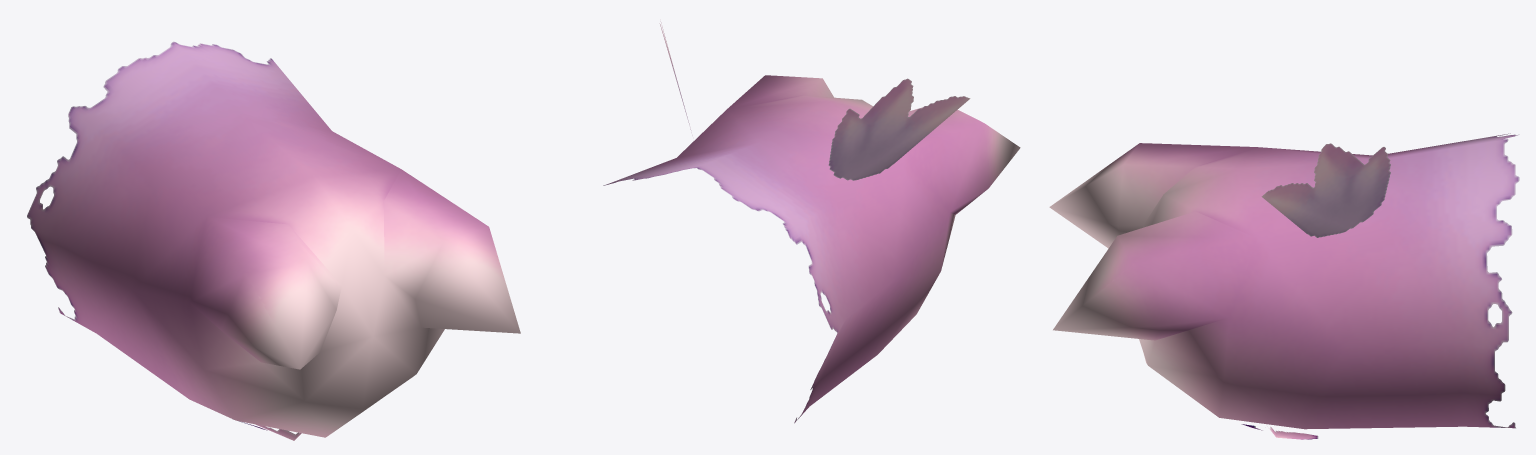
The model's file is spookat.glb.
The picture shows the model from 3 angles, left to right: view 1: azimuth 30°, elevation 25°; view 2: azimuth 150°, elevation 25°; view 3: azimuth 270°, elevation 25°; orthographic projection. The views are drawn at different scales.
Parts seen in each view (by area): view 1: monsters.spookat-Mesh[0]; view 2: monsters.spookat-Mesh[0]; view 3: monsters.spookat-Mesh[0].
Part boxes in pixels (bbox=[...]): monsters.spookat-Mesh[0]: bbox=[27, 41, 520, 440]; monsters.spookat-Mesh[0]: bbox=[603, 21, 1020, 423]; monsters.spookat-Mesh[0]: bbox=[1049, 133, 1519, 439].
Bounding box in the file's own units: 1.02 × 1.09 × 1.29.
1 material, 1 textured.
